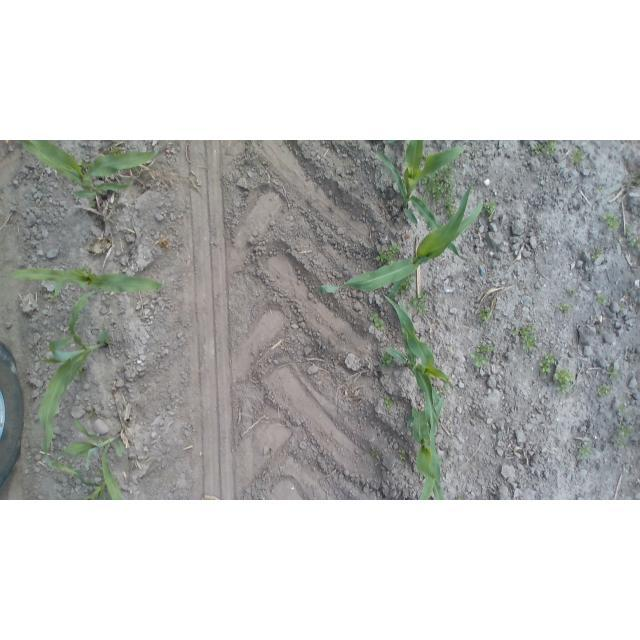Maize: (314, 180, 486, 304), (379, 292, 461, 488), (37, 286, 121, 463), (370, 141, 468, 259), (18, 141, 164, 200), (54, 414, 134, 500), (2, 258, 166, 299), (408, 391, 451, 500), (40, 457, 123, 500)
Weeds: (423, 160, 458, 216), (376, 241, 403, 266), (471, 343, 496, 369), (553, 366, 576, 394), (614, 422, 635, 449), (519, 323, 537, 353), (407, 292, 429, 316), (531, 140, 561, 157), (538, 351, 557, 375), (371, 312, 390, 332), (603, 211, 620, 233), (475, 305, 494, 324), (625, 225, 638, 252), (399, 276, 414, 296), (604, 364, 621, 381), (379, 350, 395, 368), (383, 394, 398, 413), (483, 200, 497, 219), (571, 148, 586, 165), (595, 383, 613, 397), (577, 444, 593, 458), (395, 448, 408, 464), (555, 302, 573, 313), (591, 246, 604, 260), (508, 324, 520, 338), (596, 294, 608, 307), (618, 404, 629, 417), (79, 263, 91, 274), (462, 154, 475, 164), (598, 185, 609, 196), (566, 287, 578, 297), (84, 411, 95, 421), (631, 176, 640, 187), (371, 448, 380, 459), (453, 493, 467, 500)
